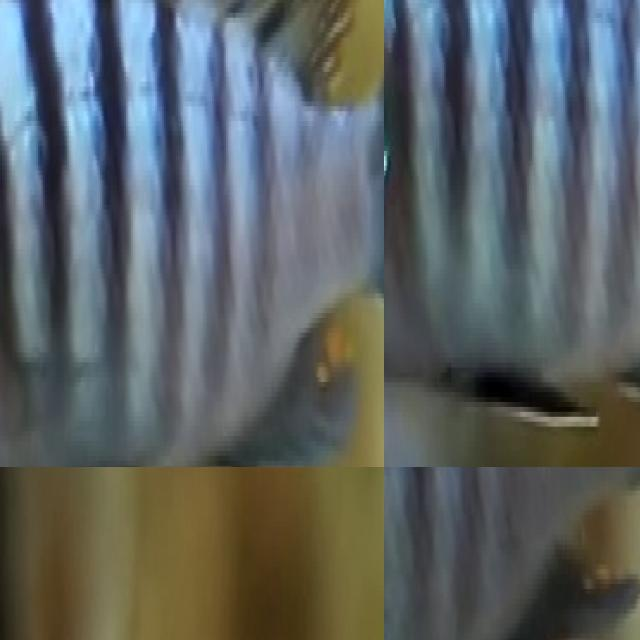fish: (0, 0, 384, 467), (384, 0, 640, 397)
